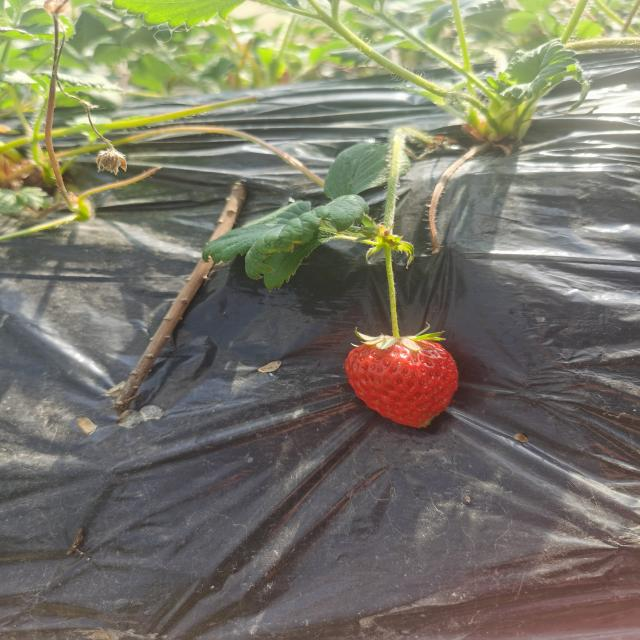stem: (390, 302, 401, 340)
strawberry: (344, 336, 458, 427)
